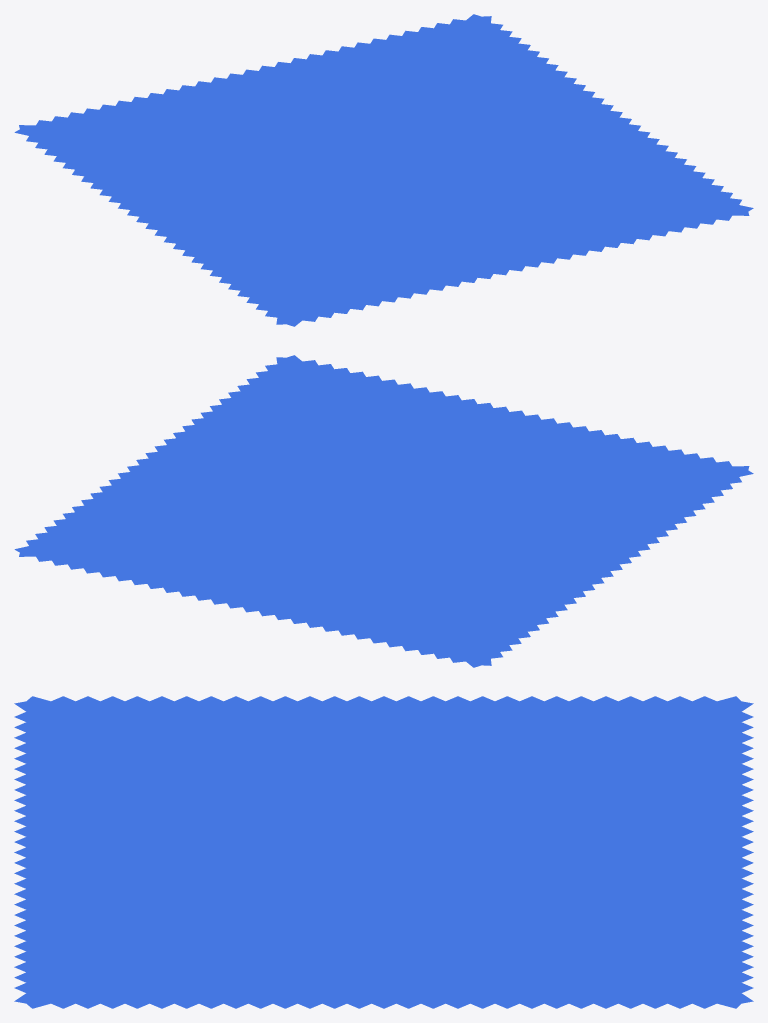
File: MicroFiberLens2.FBX
3 renders of one model, top to bottom at view 1: azimuth 30°, elevation 25°; view 2: azimuth 150°, elevation 25°; view 3: azimuth 270°, elevation 25°, orthographic. The views are drawn at different scales.
Parts seen in each view (by area): view 1: MicroFiber 2; view 2: MicroFiber 2; view 3: MicroFiber 2.
Boxes of the visible parts, <box> form: MicroFiber 2: <box>14,14,753,326</box>; MicroFiber 2: <box>14,355,753,667</box>; MicroFiber 2: <box>14,696,753,1008</box>.
Bounding box in the file's own units: 105 × 6.43e-15 × 105.
